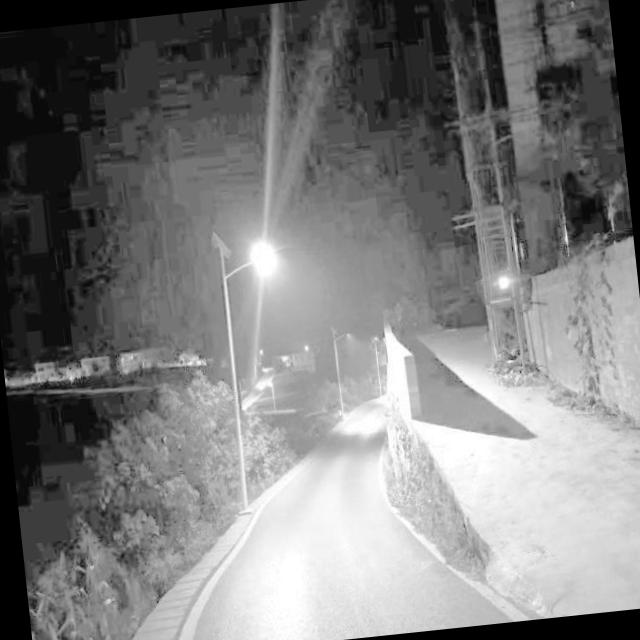Light: (244, 236, 282, 276), (491, 268, 518, 300)
